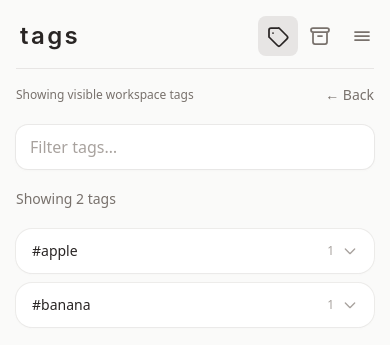
Test: TagsPage — filter and expand › filters the tag list by substring
expect the text "#apple" is shown: met, box [32,241,78,261]
Type "ban" into the field with placeholder "Filter tags…".
click(195, 147); type("ban")  # box [30,137,360,157]
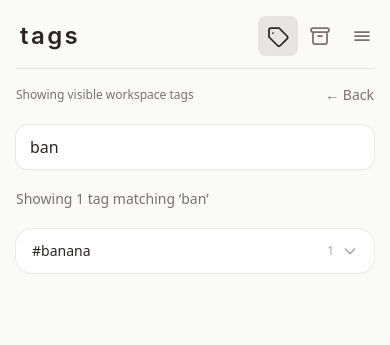
expect the text "#banana" is shown: met, box [32,241,90,261]
expect the text "Showing 1 tag matching ‘ban’" is shown: met, box [16,189,209,208]
expect the button "#apple" is gone: met
